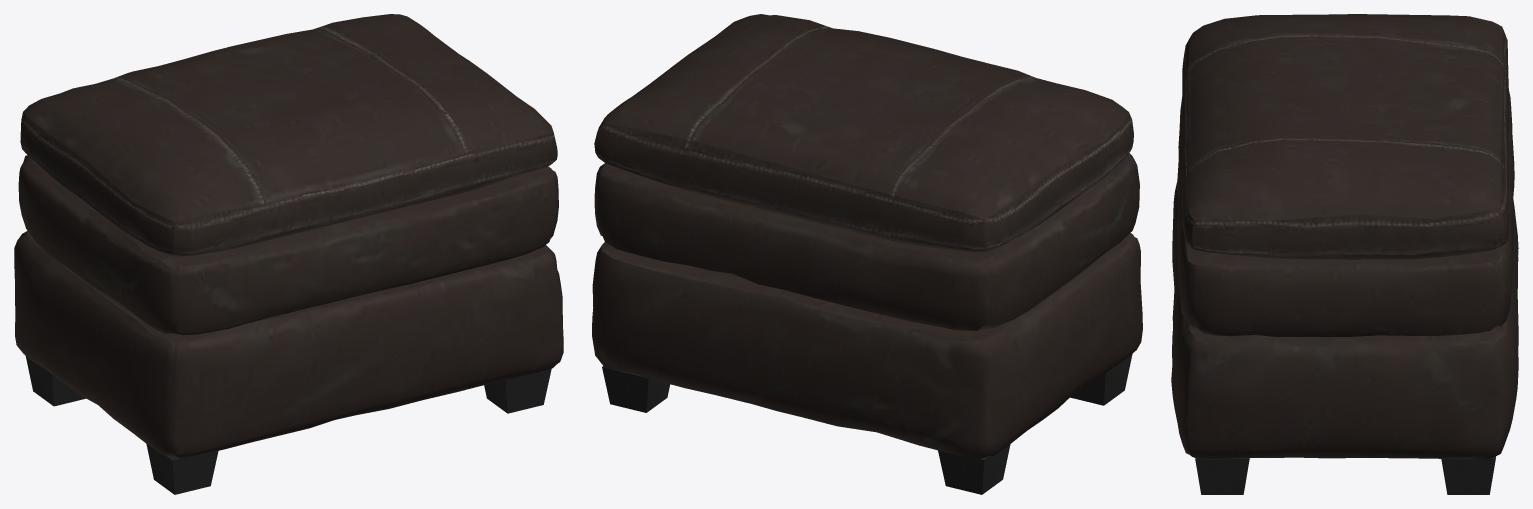
File: Ottoman_01.glb
The picture shows the model from 3 angles, left to right: view 1: azimuth 30°, elevation 25°; view 2: azimuth 150°, elevation 25°; view 3: azimuth 270°, elevation 25°; orthographic projection.
Parts seen in each view (by area): view 1: Ottoman_01; view 2: Ottoman_01; view 3: Ottoman_01.
Part boxes in pixels (x1,y1,x2,y2): Ottoman_01: (14, 14, 563, 494); Ottoman_01: (592, 14, 1142, 494); Ottoman_01: (1171, 14, 1518, 494).
Bounding box in the file's own units: 0.8846 × 0.6243 × 0.6212.
Materials: 1 (1 with a texture image).
